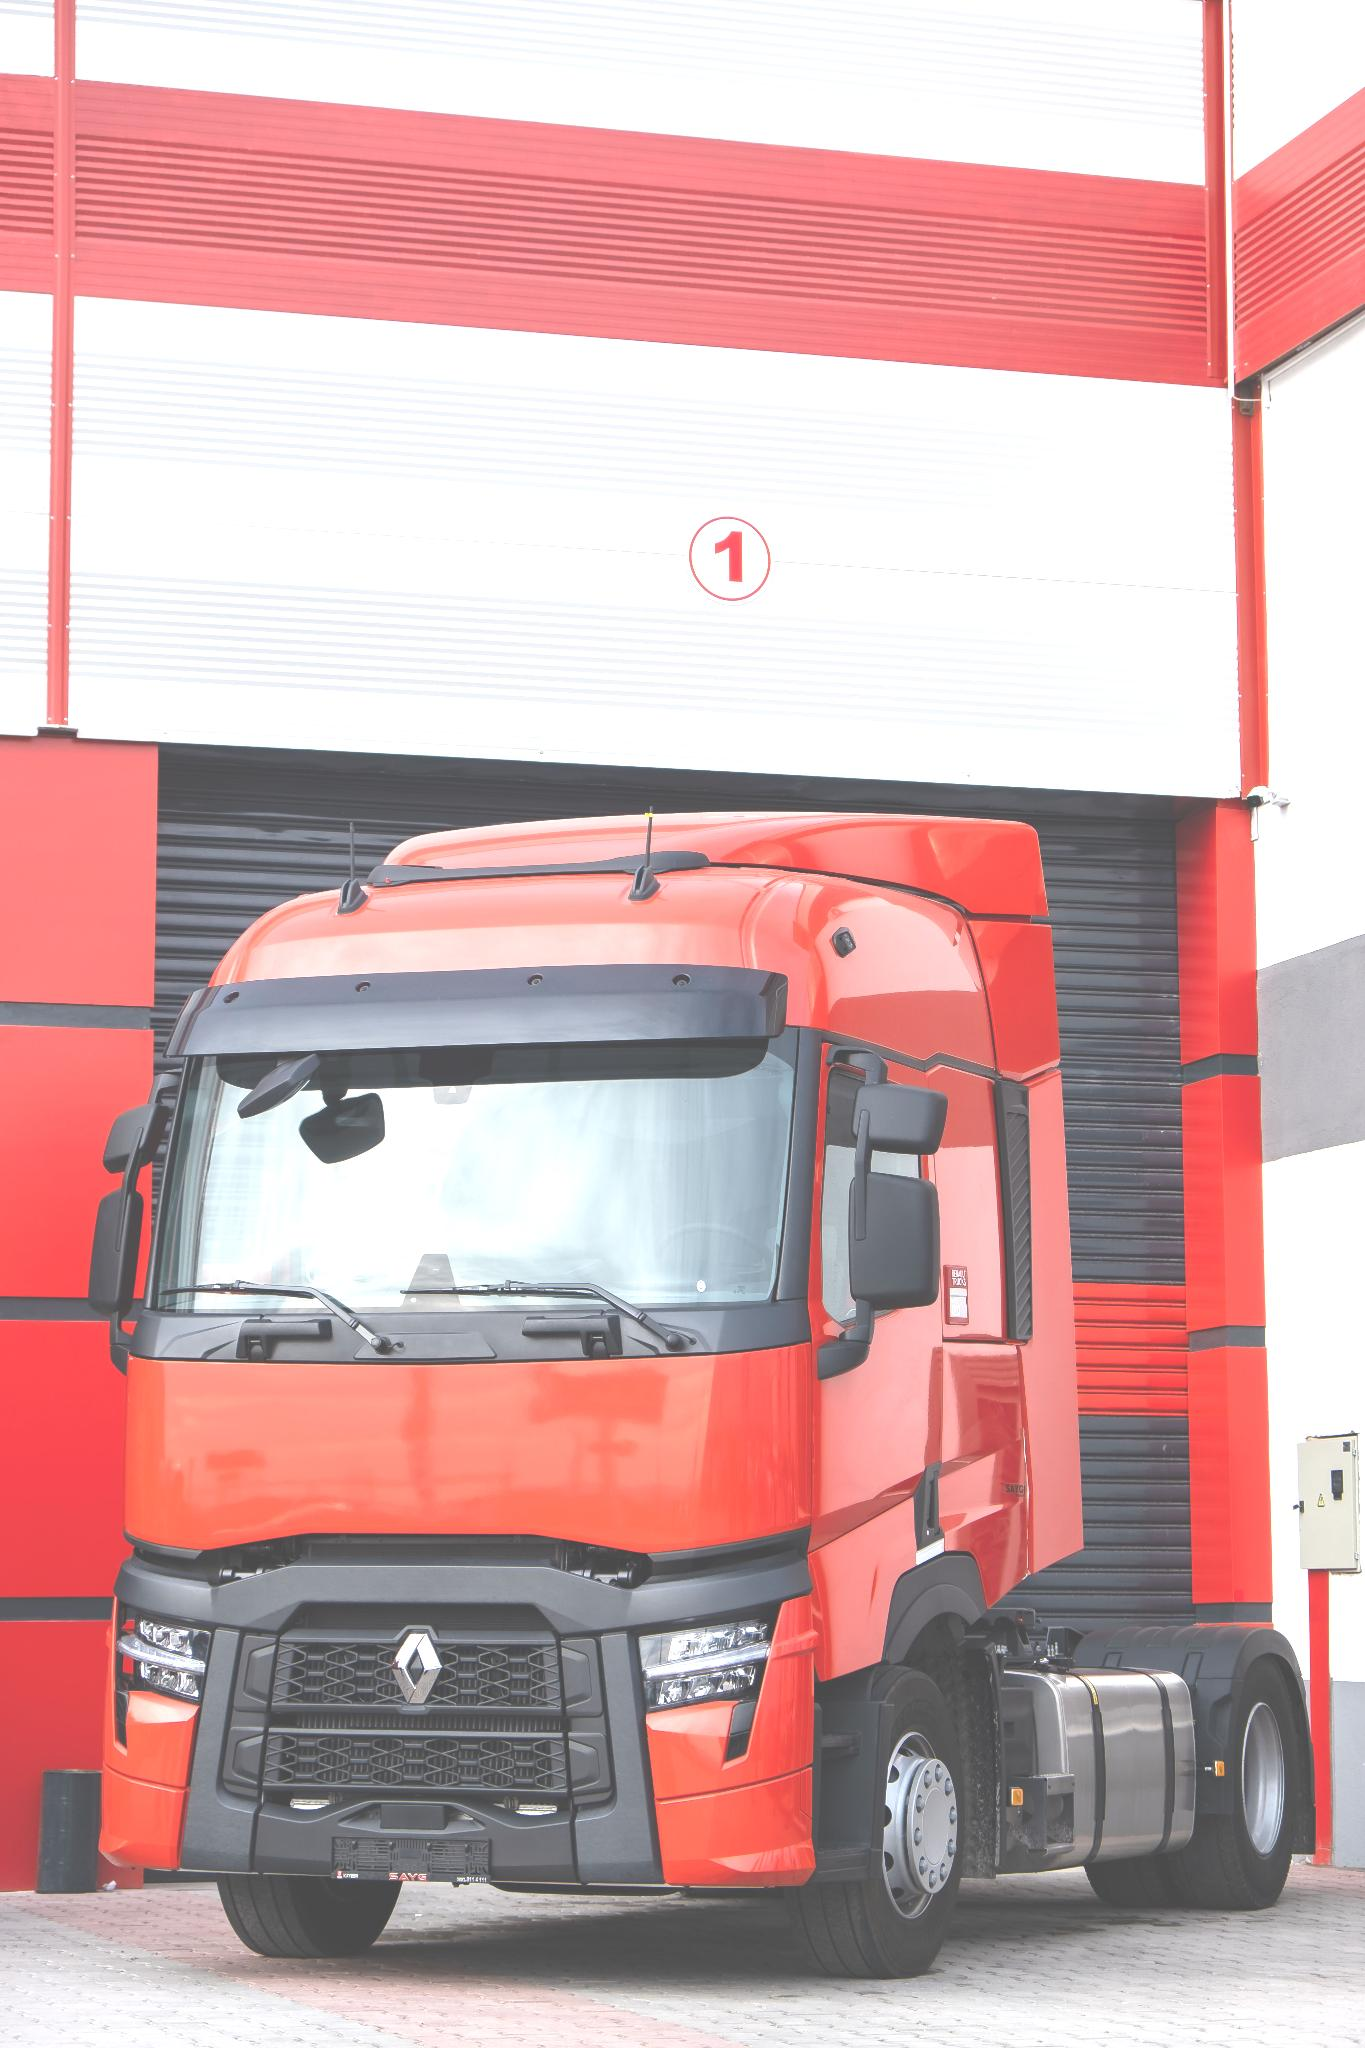Renault: (381, 1609, 463, 1728)
